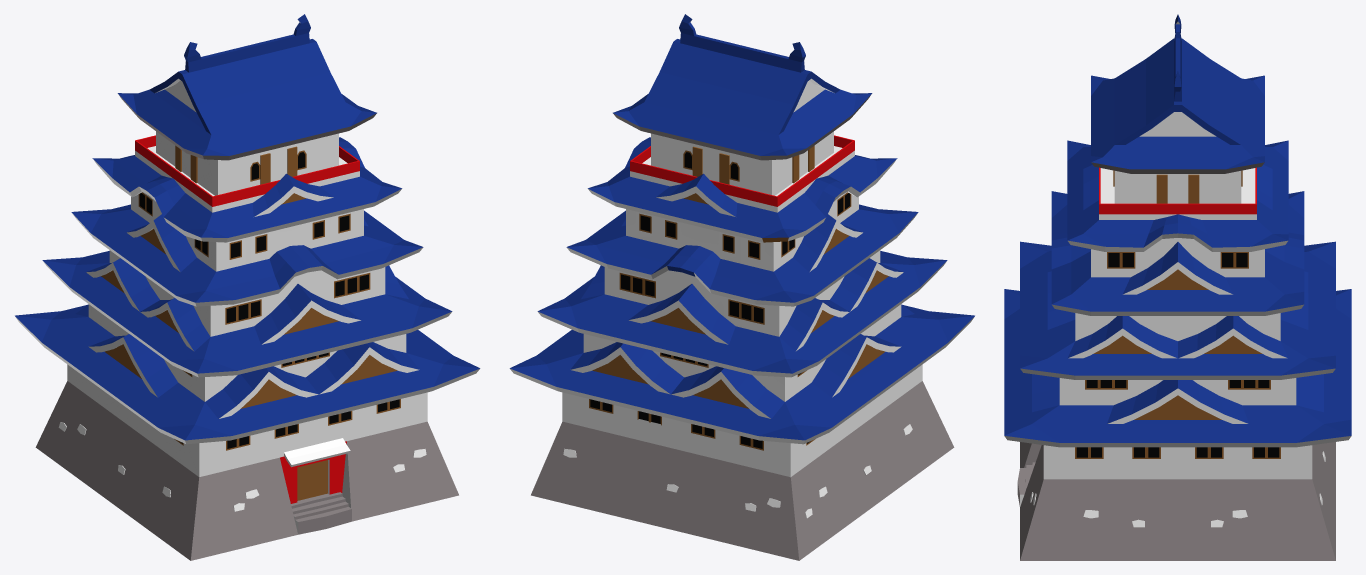
Rendered from asiancommandpreview.fbx.
The picture shows the model from 3 angles, left to right: view 1: azimuth 30°, elevation 25°; view 2: azimuth 150°, elevation 25°; view 3: azimuth 270°, elevation 25°; orthographic projection.
Visible parts, largest first — view 1: castle-japan; view 2: castle-japan; view 3: castle-japan.
Part boxes in pixels (bbox=[...]): castle-japan: bbox=[15, 14, 480, 560]; castle-japan: bbox=[509, 14, 974, 560]; castle-japan: bbox=[1004, 14, 1351, 560].
Bounding box in the file's own units: 2200 × 3155 × 2200.
